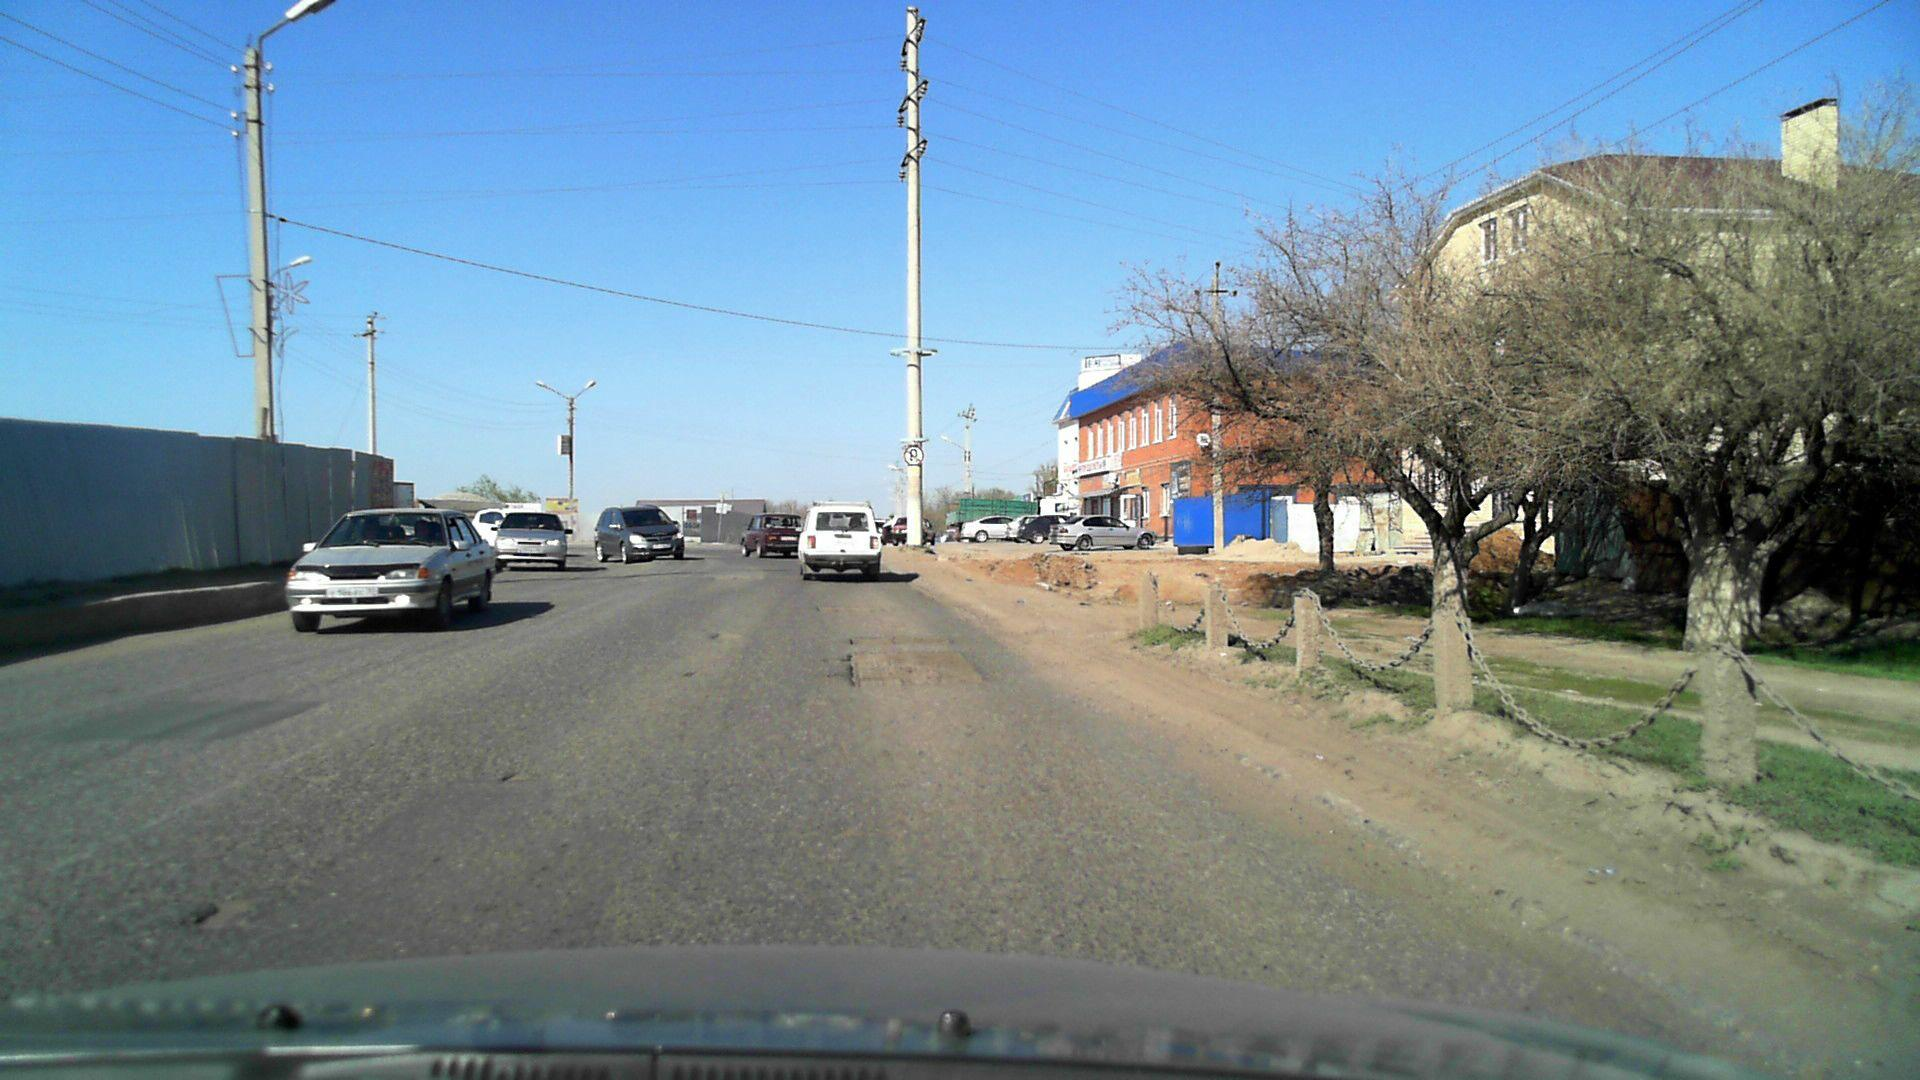3_19: (899, 443, 923, 465)
